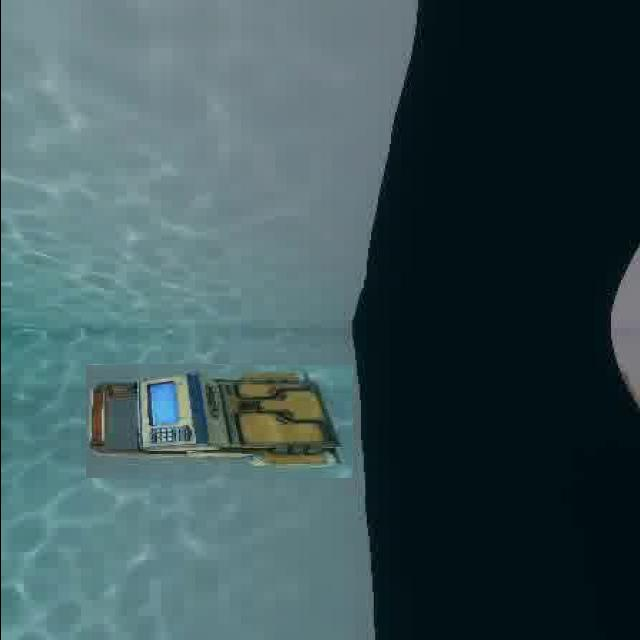Control Panel: (85, 364, 352, 478)
